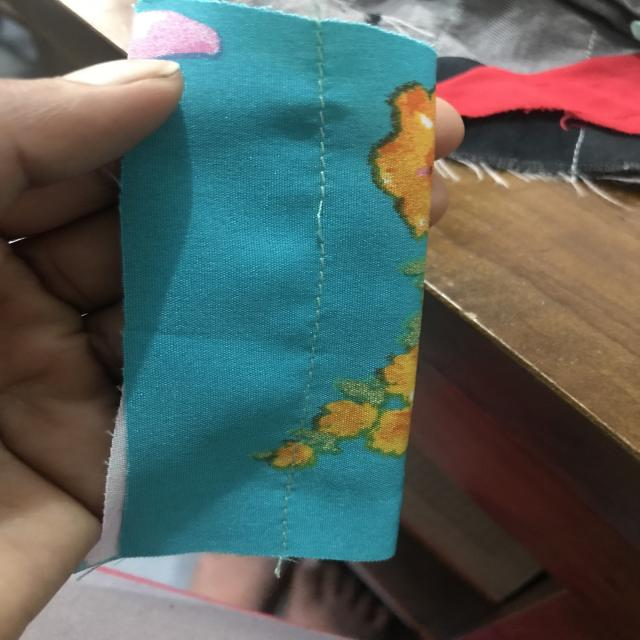skip: (300, 193, 342, 259)
